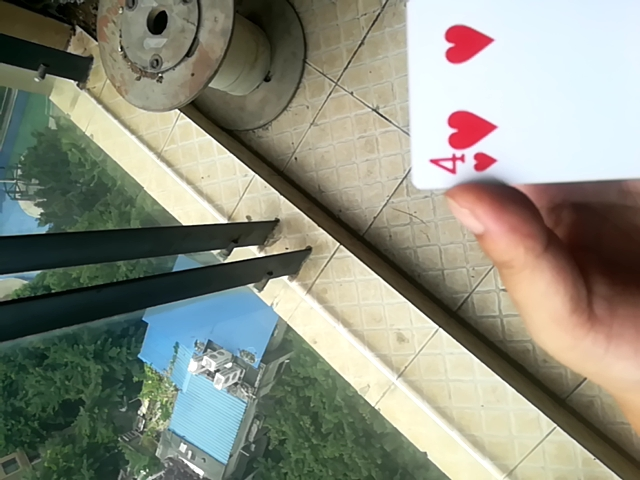hx 4: (401, 0, 638, 195)
